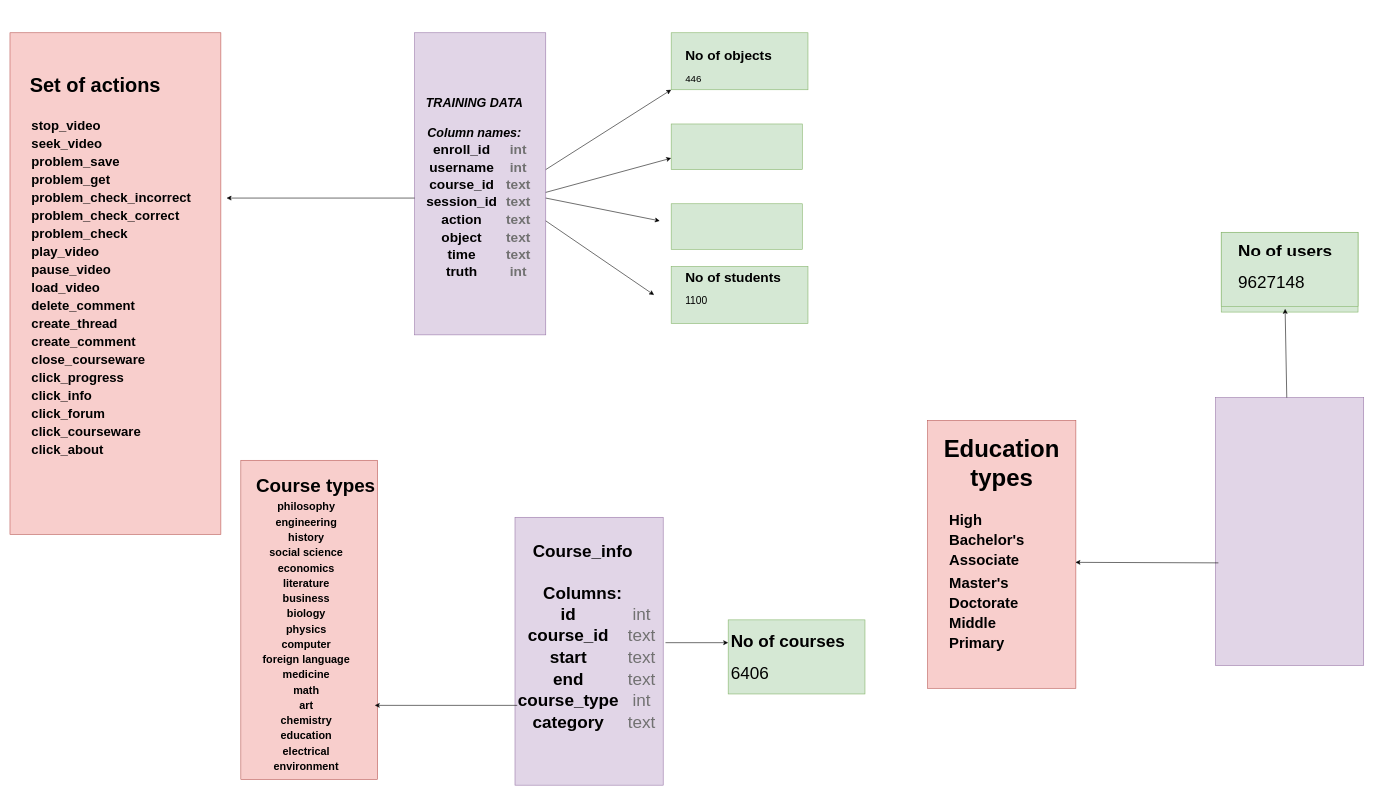
Some shapes in this 1382 by 795 pixel diagram are drawn without their labels. Here are the shapes that lost their labels. From the top down, the centre of each, then its label:
At [736,146]: "No of courses 6409".
At [736,226]: "No of sessions 2196".
At [1289,531]: "Student_info Columns: user_id int gender text education text birth text".
